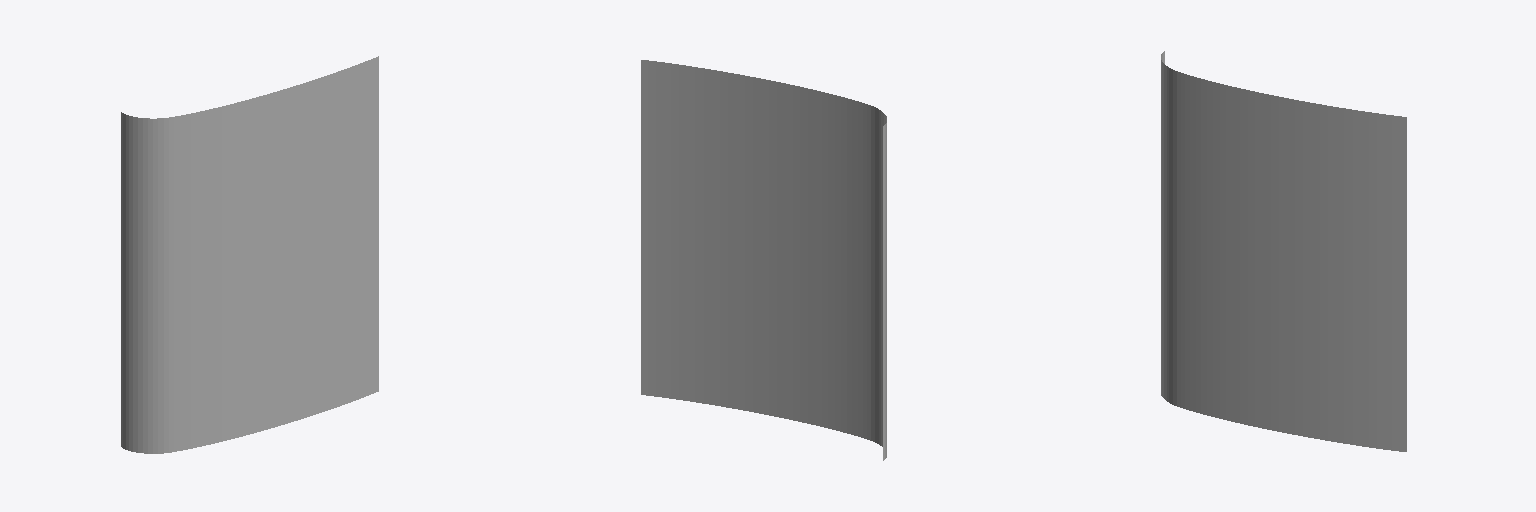
The model's file is right-list3.obj.
3 views of the same model, side by side, from view 1: azimuth 30°, elevation 25°; view 2: azimuth 150°, elevation 25°; view 3: azimuth 330°, elevation 25° (orthographic).
Visible parts, largest first — view 1: Cube.002; view 2: Cube.002; view 3: Cube.002.
Part boxes in pixels (x1,y1,x2,y2): Cube.002: (121,56,378,453); Cube.002: (641,60,886,460); Cube.002: (1161,51,1406,451).
Bounding box in the file's own units: 1.88 × 2.41 × 0.2624.